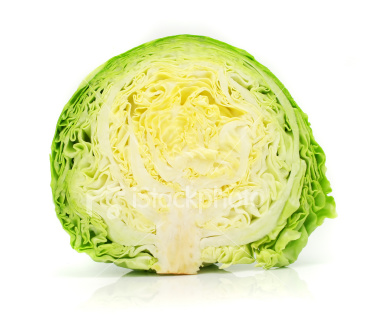cabbage: (47, 33, 338, 277)
